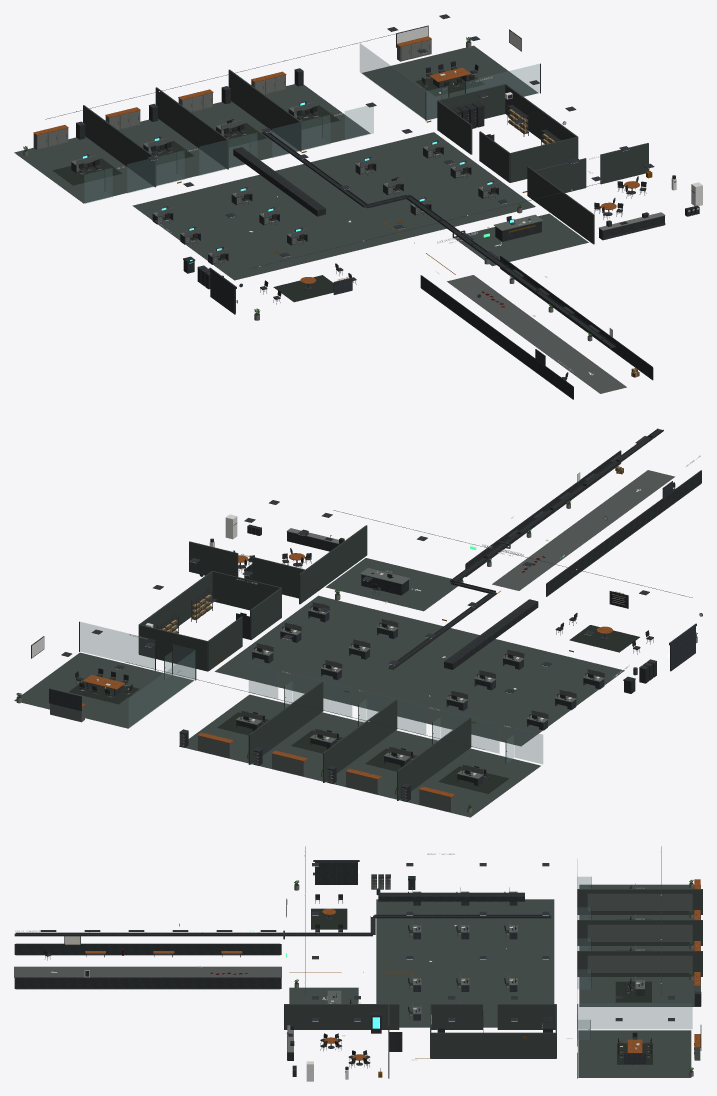
Rendered from offices_art.glb.
3 renders of one model, top to bottom at view 1: azimuth 30°, elevation 25°; view 2: azimuth 150°, elevation 25°; view 3: azimuth 270°, elevation 25°, orthographic. The views are drawn at different scales.
Visible parts, largest first — view 1: OF_Carpet_Open_CARPET, OF_Carpet_North_CARPET, OF_Carpet_Meet_CARPET, OF_ConnectorRunner_CARPET, OF_Carpet_Lobby_CARPET, OF_OfficePart_2, OF_OfficePart_3, OF_OfficePart_1, OF_ConnectorPanel_W_TRIM, OF_CafeWall_W, OF_MeetGlass_W, OF_CableTray_CABLE (+29 smaller); view 2: OF_Carpet_Open_CARPET, OF_Carpet_North_CARPET, OF_Carpet_Meet_CARPET, OF_ConnectorRunner_CARPET, OF_Carpet_Lobby_CARPET, OF_OfficePart_3, OF_OfficePart_2, OF_OfficePart_1, OF_ConnectorPanel_W_TRIM, OF_CafeWall_W, OF_MeetGlass_S_2, OF_ArchiveWall_N (+28 smaller); view 3: OF_Carpet_Open_CARPET, OF_Carpet_Meet_CARPET, OF_Carpet_North_CARPET, OF_ConnectorPanel_E_TRIM, OF_ArchiveWall_E, OF_OfficePart_1, OF_OfficePart_2, OF_OfficePart_3, OF_ConnectorRunner_CARPET, OF_ConnectorPanel_W_TRIM, OF_MeetGlass_W, OF_CafeWall_W (+9 smaller).
Part boxes in pixels (left/top/right/bottom): OF_Carpet_Open_CARPET: left=132, top=132, right=535, bottom=280; OF_Carpet_North_CARPET: left=14, top=84, right=370, bottom=203; OF_Carpet_Meet_CARPET: left=362, top=45, right=537, bottom=120; OF_ConnectorRunner_CARPET: left=447, top=275, right=626, bottom=393; OF_Carpet_Lobby_CARPET: left=454, top=213, right=588, bottom=265; OF_OfficePart_2: left=155, top=87, right=228, bottom=169; OF_OfficePart_3: left=228, top=69, right=301, bottom=151; OF_OfficePart_1: left=83, top=105, right=156, bottom=187; OF_ConnectorPanel_W_TRIM: left=420, top=275, right=573, bottom=399; OF_CafeWall_W: left=527, top=166, right=594, bottom=244; OF_MeetGlass_W: left=360, top=43, right=425, bottom=119; OF_CableTray_CABLE: left=365, top=195, right=615, bottom=348; OF_Carpet_Open_CARPET: left=215, top=595, right=624, bottom=746; OF_Carpet_North_CARPET: left=179, top=694, right=540, bottom=817; OF_Carpet_Meet_CARPET: left=14, top=652, right=193, bottom=728; OF_ConnectorRunner_CARPET: left=492, top=470, right=674, bottom=590; OF_Carpet_Lobby_CARPET: left=326, top=558, right=463, bottom=611; OF_OfficePart_3: left=248, top=681, right=323, bottom=764; OF_OfficePart_2: left=323, top=699, right=397, bottom=782; OF_OfficePart_1: left=397, top=717, right=471, bottom=800; OF_ConnectorPanel_W_TRIM: left=546, top=470, right=701, bottom=596; OF_CafeWall_W: left=299, top=525, right=367, bottom=604; OF_MeetGlass_S_2: left=80, top=622, right=154, bottom=668; OF_ArchiveWall_N: left=139, top=624, right=207, bottom=671; OF_Carpet_Open_CARPET: left=376, top=899, right=554, bottom=1027; OF_Carpet_Meet_CARPET: left=578, top=1030, right=691, bottom=1077; OF_Carpet_North_CARPET: left=579, top=884, right=700, bottom=1006; OF_ConnectorPanel_E_TRIM: left=14, top=977, right=281, bottom=989; OF_ArchiveWall_E: left=430, top=1032, right=556, bottom=1058; OF_OfficePart_1: left=577, top=889, right=702, bottom=914; OF_OfficePart_2: left=577, top=920, right=702, bottom=945; OF_OfficePart_3: left=577, top=951, right=702, bottom=976; OF_ConnectorRunner_CARPET: left=14, top=966, right=281, bottom=977; OF_ConnectorPanel_W_TRIM: left=14, top=943, right=281, bottom=955; OF_MeetGlass_W: left=578, top=1004, right=692, bottom=1028; OF_CafeWall_W: left=284, top=1004, right=399, bottom=1029.
Size of the model in its own units: 44.75 by 4.5 by 65.8.
32 materials, 7 textured.
